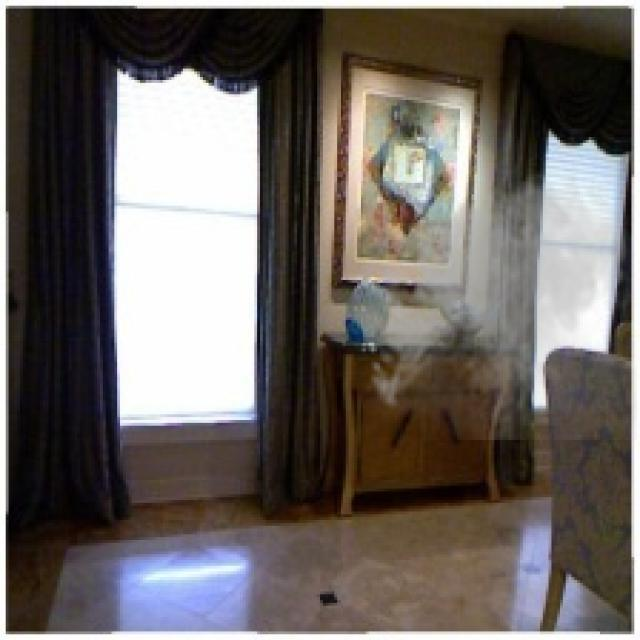Smoke: (362, 163, 638, 440)
